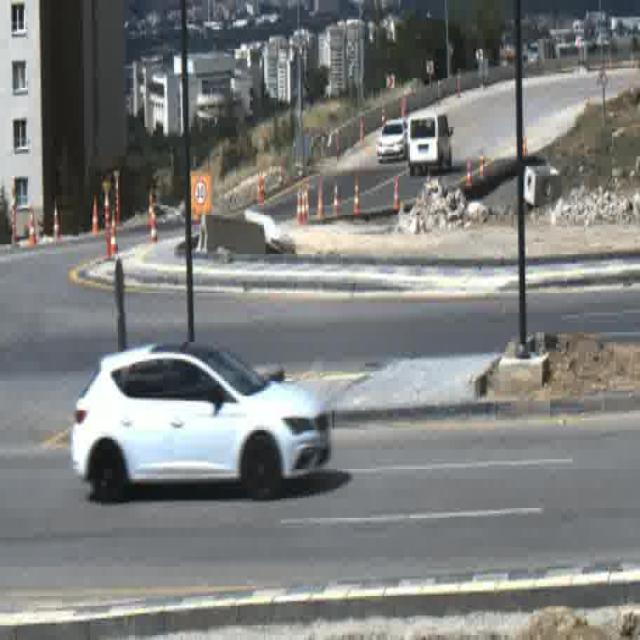Car: (71, 339, 336, 496), (408, 113, 452, 172), (375, 119, 406, 164)
